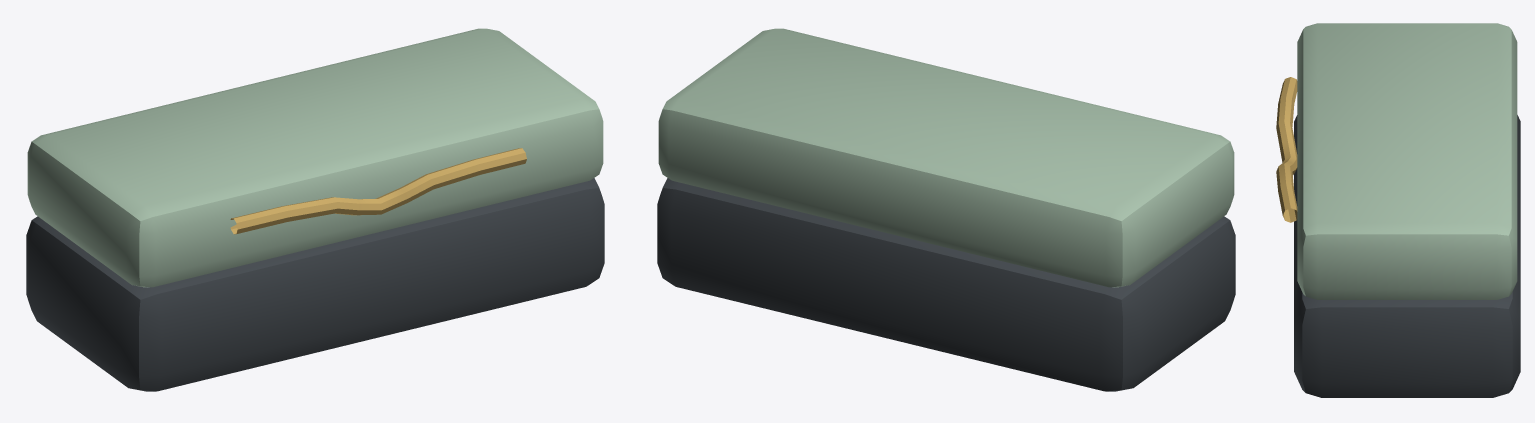
Rendered from checkout_product_eyewear_case.glb.
3 renders of one model, left to right at view 1: azimuth 30°, elevation 25°; view 2: azimuth 150°, elevation 25°; view 3: azimuth 270°, elevation 25°, orthographic. The views are drawn at different scales.
Visible parts, largest first — view 1: EyewearCaseLid, EyewearCaseLower, EyewearLensMark; view 2: EyewearCaseLid, EyewearCaseLower; view 3: EyewearCaseLid, EyewearCaseLower, EyewearLensMark.
Part boxes in pixels (x1,y1,x2,y2): EyewearCaseLid: [27, 28, 603, 287]; EyewearCaseLower: [26, 178, 604, 391]; EyewearLensMark: [230, 148, 526, 234]; EyewearCaseLid: [658, 28, 1234, 287]; EyewearCaseLower: [657, 178, 1235, 391]; EyewearCaseLid: [1297, 23, 1517, 299]; EyewearCaseLower: [1294, 115, 1520, 397]; EyewearLensMark: [1276, 77, 1297, 222].
Bounding box in the file's own units: 0.16 × 0.06 × 0.0755.
